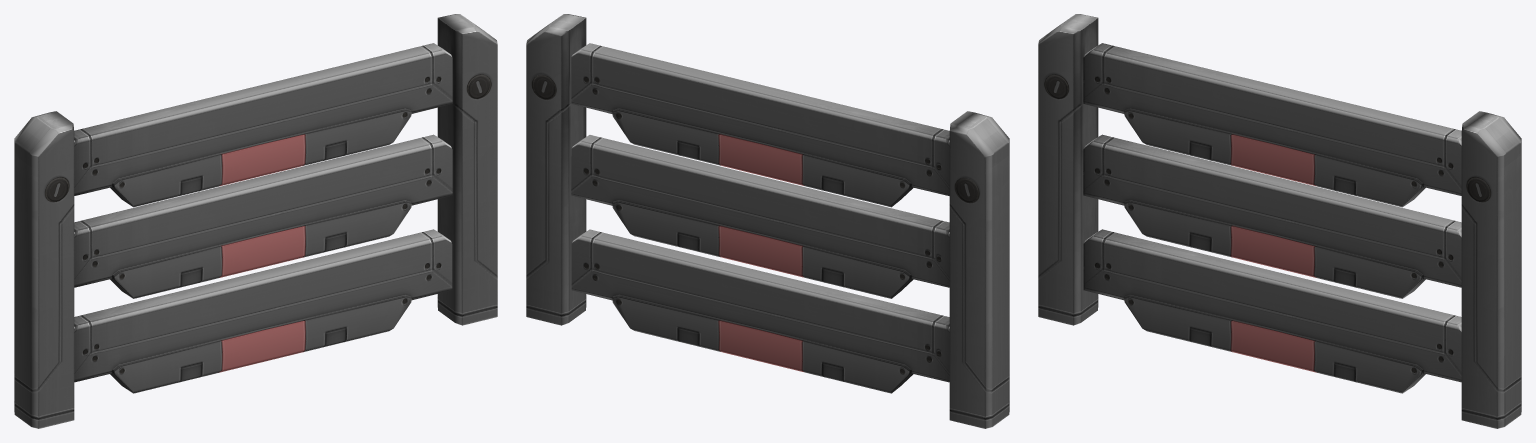
Rendered from Barrier.fbx.
3 renders of one model, left to right at view 1: azimuth 30°, elevation 25°; view 2: azimuth 150°, elevation 25°; view 3: azimuth 330°, elevation 25°, orthographic.
Visible parts, largest first — view 1: Low_Barrier:Low_Barrier:RetopoGroup2; view 2: Low_Barrier:Low_Barrier:RetopoGroup2; view 3: Low_Barrier:Low_Barrier:RetopoGroup2.
Boxes of the visible parts, x1,y1,x2,y2 form: Low_Barrier:Low_Barrier:RetopoGroup2: [14, 14, 497, 428]; Low_Barrier:Low_Barrier:RetopoGroup2: [526, 14, 1009, 428]; Low_Barrier:Low_Barrier:RetopoGroup2: [1038, 14, 1521, 428].
Size of the model in its own units: 271 by 163 by 24.87.
